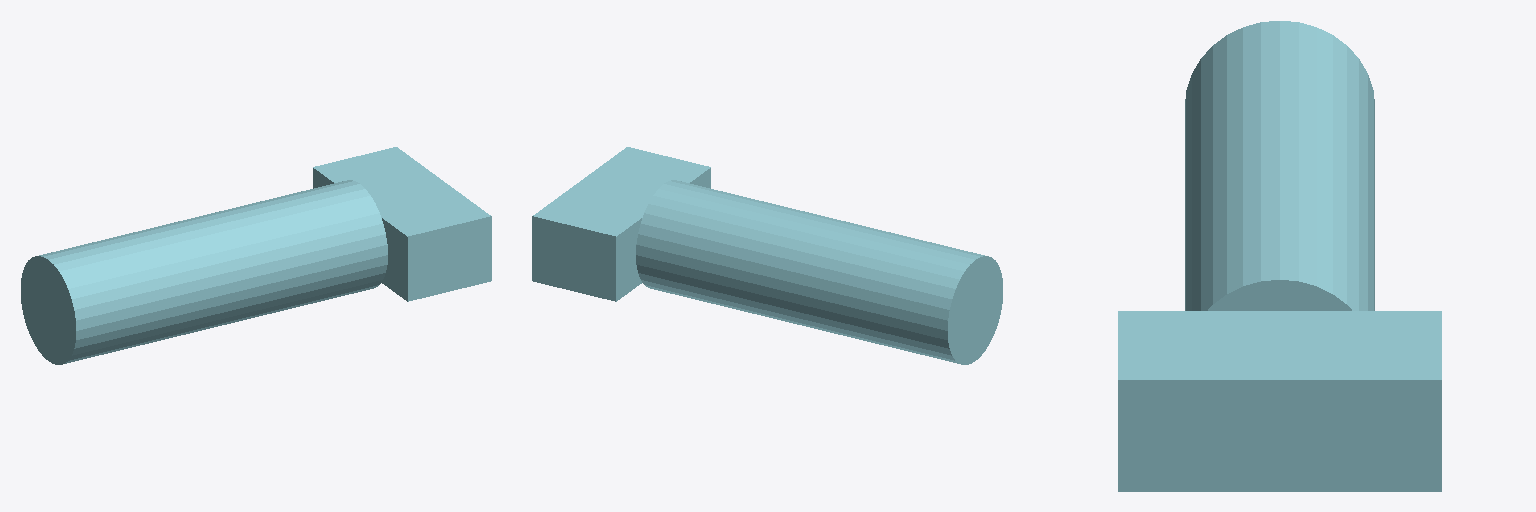
robot.urdf — cylinder_hammer_v1000:
<?xml version="1.0"?>
<robot name="cylinder_hammer_v1000">

  <link name="cylinder_hammer_v1000">
    <!-- Handle -->
    <visual>
      <origin xyz="0 0 0" rpy="0 1.5707963267948966 0"/>
      <geometry>
        <cylinder length="0.18988049421892794" radius="0.029537645660215855"/>
      </geometry>
      <material name="material">
        <color rgba="0.639 0.847 0.882 1.0"/>
      </material>
    </visual>
    <collision>
      <origin xyz="0 0 0" rpy="0 1.5707963267948966 0"/>
      <geometry>
        <cylinder length="0.18988049421892794" radius="0.029537645660215855"/>
      </geometry>
    </collision>

    <!-- Head -->
    <visual>
      <origin xyz="0.12051526518877986 0 0" rpy="0 0 0"/>
      <geometry>
        <box size="0.051150036158631784 0.1001823132411297 0.037974460085751546"/>
      </geometry>
      <material name="material">
        <color rgba="0.639 0.847 0.882 1.0"/>
      </material>
    </visual>
    <collision>
      <origin xyz="0.12051526518877986 0 0" rpy="0 0 0"/>
      <geometry>
        <box size="0.051150036158631784 0.1001823132411297 0.037974460085751546"/>
      </geometry>
    </collision>

    <inertial>
      <density value="400.0"/>
    </inertial>
  </link>

</robot>

--- What the picture shows (computed from the rendered views, not written in the file) ---
Views: 3 orthographic renders of the robot side by side, from view 1: azimuth 30°, elevation 25°; view 2: azimuth 150°, elevation 25°; view 3: azimuth 270°, elevation 25°.
Model cylinder_hammer_v1000 with 1 links and 0 joints (none), rooted at cylinder_hammer_v1000, posed all joints at 0.
Visible links, largest first — view 1: cylinder_hammer_v1000; view 2: cylinder_hammer_v1000; view 3: cylinder_hammer_v1000.
Link boxes in pixels (<box>): cylinder_hammer_v1000: <box>21,147,491,364</box>; cylinder_hammer_v1000: <box>532,147,1002,364</box>; cylinder_hammer_v1000: <box>1118,21,1441,491</box>.
Size in the robot's own frame: 0.241 by 0.1002 by 0.0591 metres.
Geometry: primitives only (box / cylinder / sphere), no mesh files.
